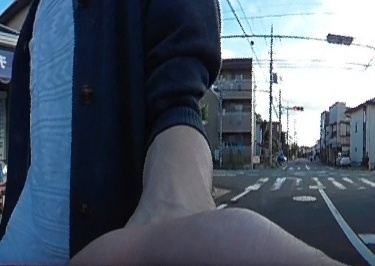person: (275, 146, 284, 166)
